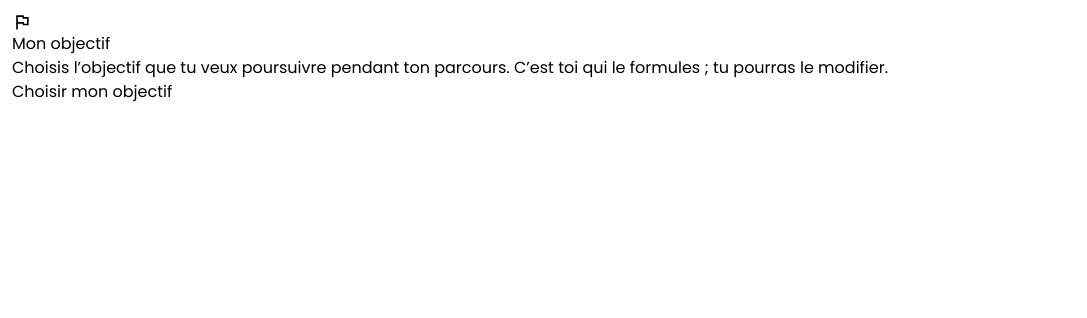
Carte Mon objectif › racine du test proposée, jamais imposée
Click the button "Choisir mon objectif".
click(92, 92)  # box [12,80,172,104]
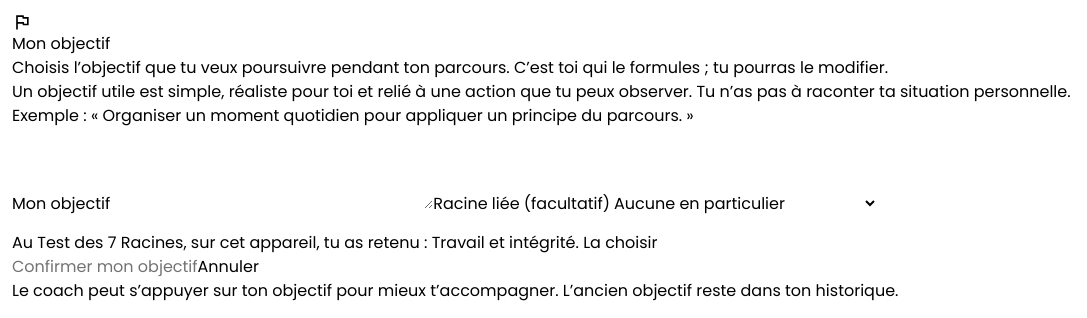
expect the text "tu as retenu : Travail et intégrité" is shown: met, box [12,231,579,254]
expect the dropdown labelled "Racine liée (facultatif)" shows "Aucune en particulier": met, box [610,175,878,231]
Click the button "La choisir".
click(620, 243)  # box [583,231,658,255]
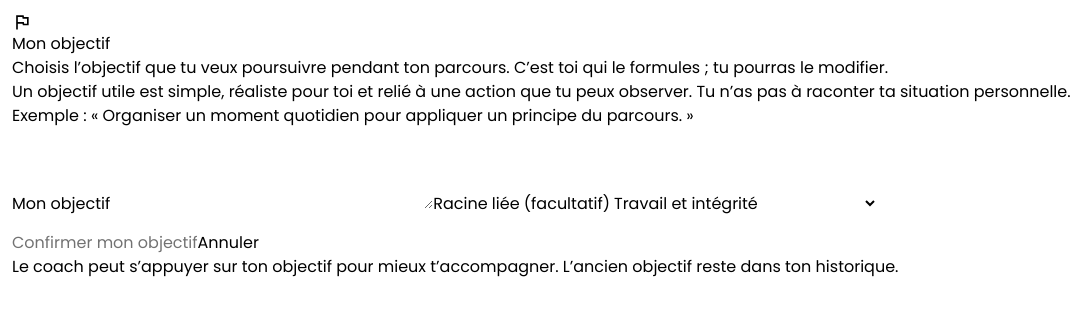
expect the dropdown labelled "Racine liée (facultatif)" shows "Travail et intégrité": met, box [610,175,878,231]
